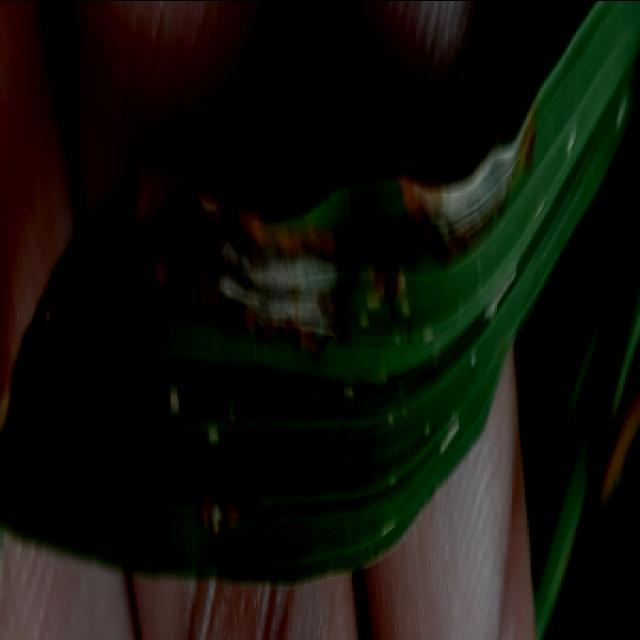Brown_Spot: (135, 195, 371, 348), (182, 448, 286, 558)
